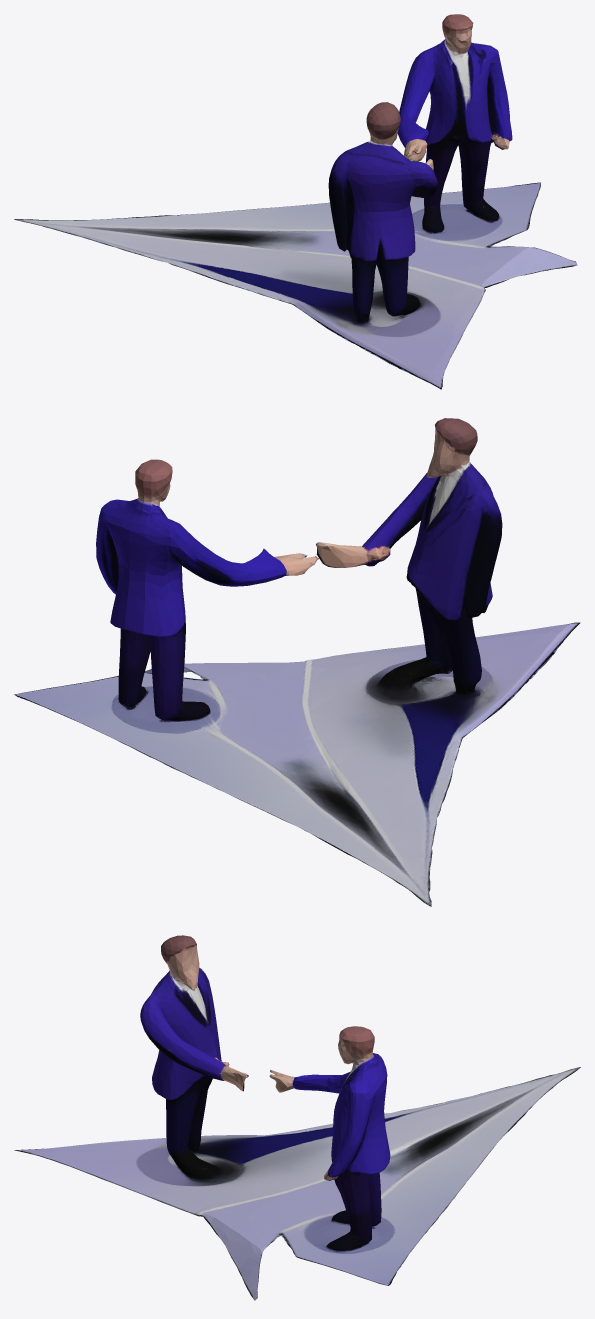
The picture shows the model from 3 angles, top to bottom: view 1: azimuth 30°, elevation 25°; view 2: azimuth 150°, elevation 25°; view 3: azimuth 270°, elevation 25°; orthographic projection. The views are drawn at different scales.
Visible parts, largest first — view 1: world; view 2: world; view 3: world.
Part boxes in pixels (bbox=[...]): world: bbox=[14, 14, 577, 389]; world: bbox=[14, 418, 580, 906]; world: bbox=[14, 935, 580, 1300].
Bounding box in the file's own units: 0.6311 × 0.3375 × 0.6922.
1 material, 1 textured.
